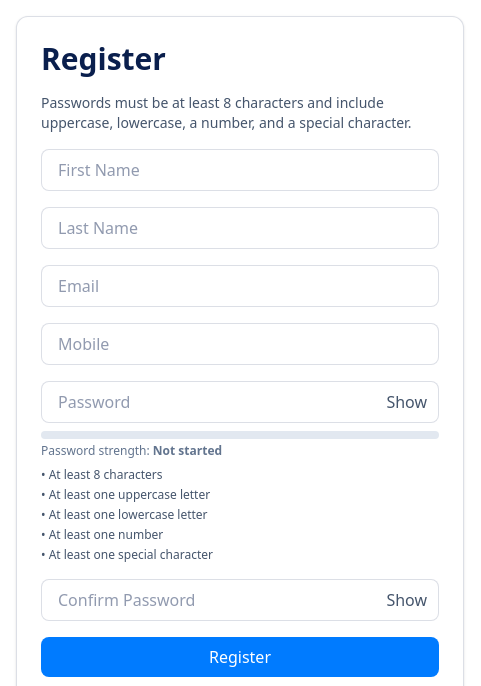
Test: RegisterPage › shows validation error when submitting an empty form
What coordinates should you click on to do the following:
click the button "Register"
I would click on:
 (240, 657)
Its box is 41,637 -> 439,677.
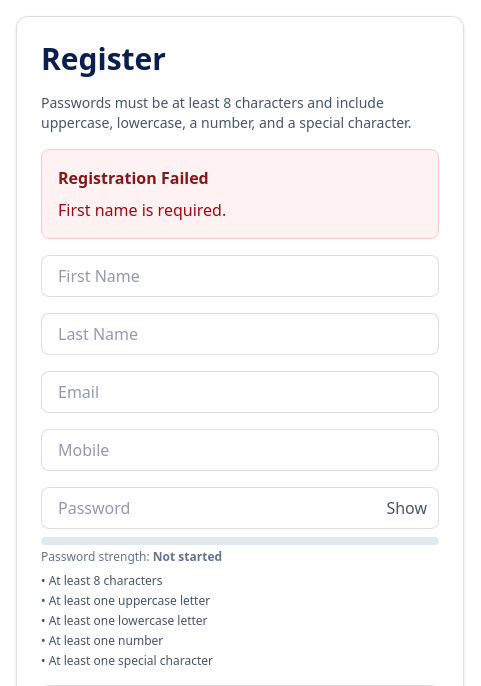
Expected: the text "First name is required." is shown, 58,199 -> 226,221
